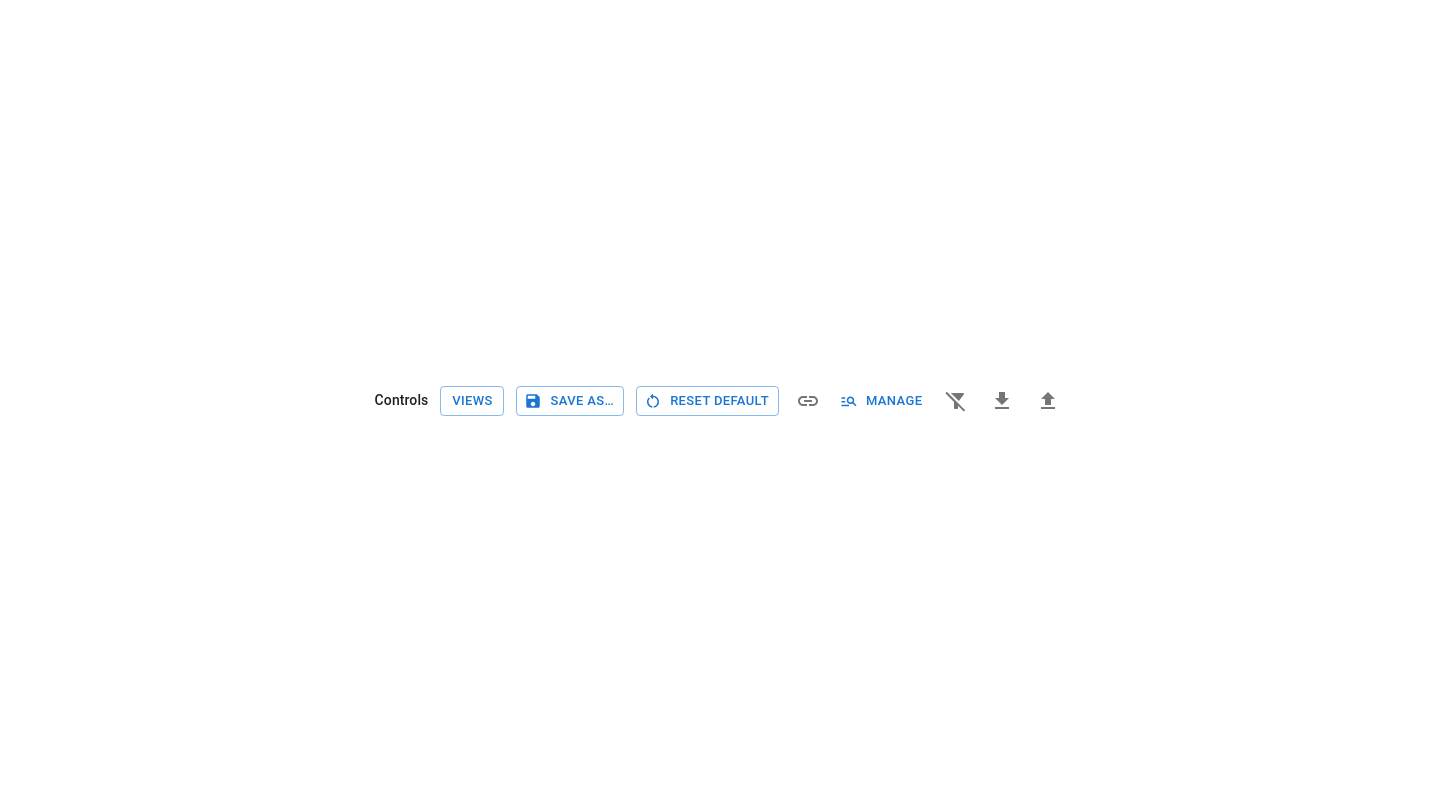
Test: SavedViewBar smoke › opens Manage and allows rename/delete/default
This screenshot has width=1440, height=810.
Click the button "Manage" at point(882, 401), box x1=837 y1=386 x2=927 y2=416
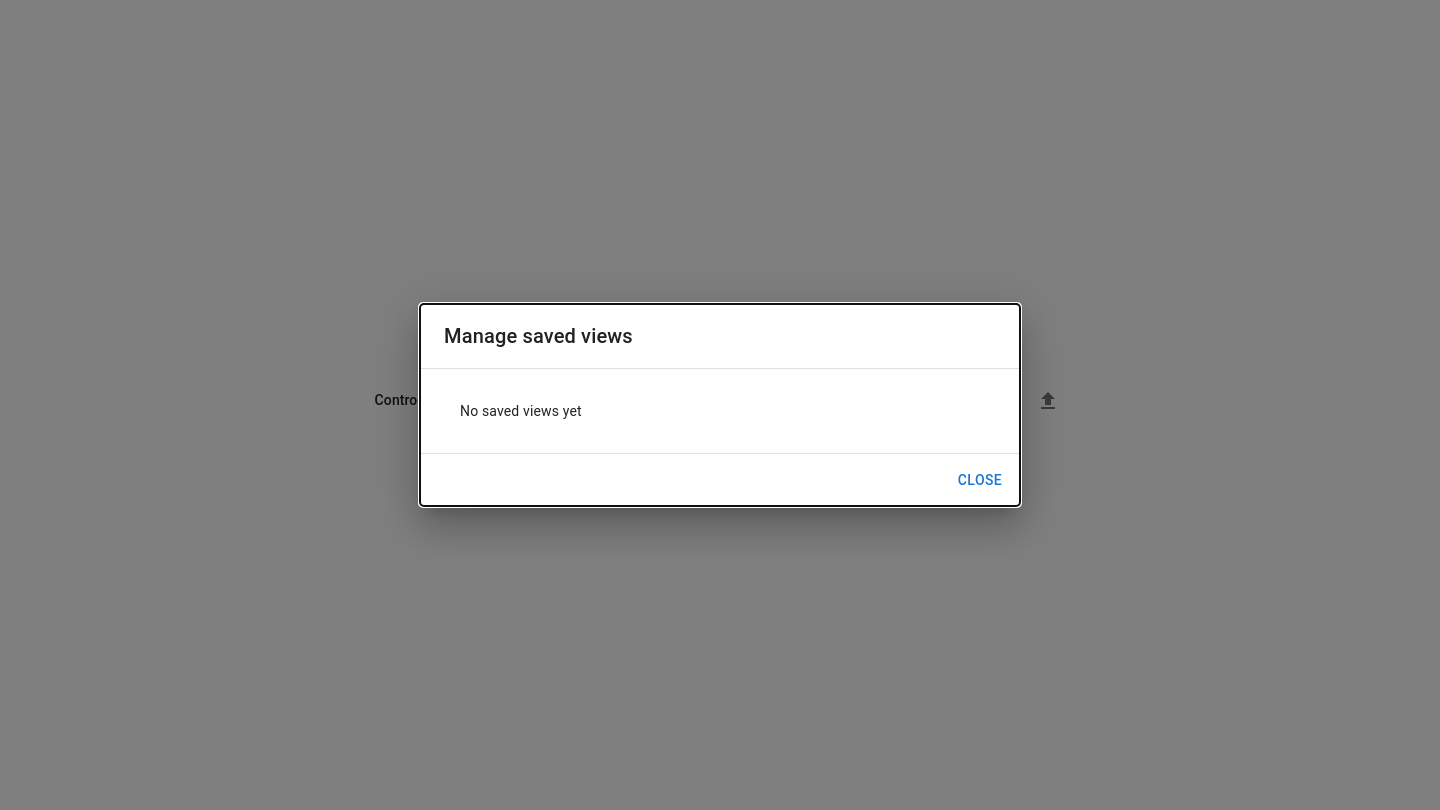
Expected: the text "No saved views yet" is shown, x1=460 y1=403 x2=582 y2=419
